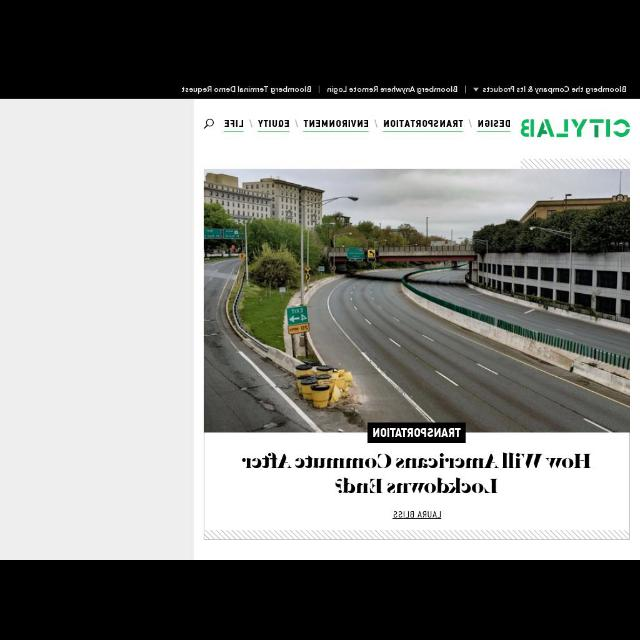icon: (204, 119, 214, 129), (472, 86, 480, 92)
image: (204, 169, 630, 433), (520, 118, 630, 138)
text: (243, 454, 592, 468), (334, 478, 498, 494), (482, 86, 626, 94), (327, 86, 458, 94), (181, 86, 311, 94), (373, 427, 461, 437), (382, 119, 463, 127), (303, 120, 369, 128), (392, 510, 441, 520), (478, 120, 510, 128), (258, 120, 288, 128), (224, 120, 244, 128)
